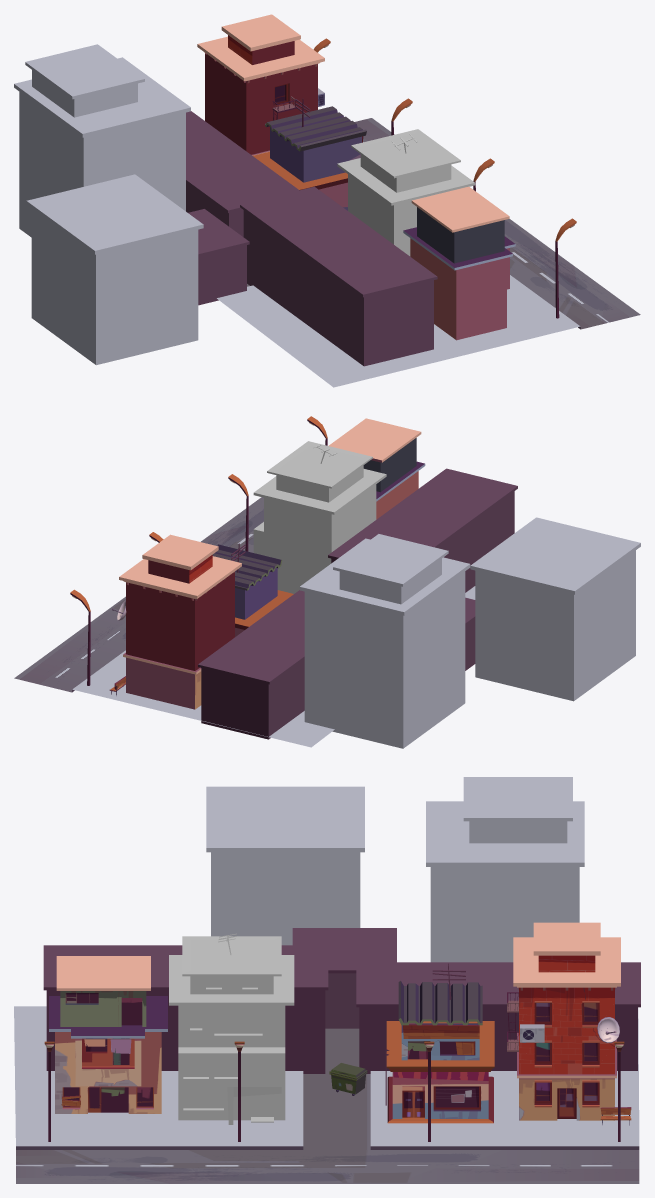
File: city.fbx
3 views of the same model, one above another, from view 1: azimuth 30°, elevation 25°; view 2: azimuth 150°, elevation 25°; view 3: azimuth 270°, elevation 25° (orthographic). The views are drawn at different scales.
Parts seen in each view (by area): view 1: Cube, Plane, 1.001, 4.001, 3.001, 2.001, Lights.001; view 2: Cube, 1.001, 3.001, Plane, 4.001, 2.001, Lights.001; view 3: Cube, Plane, 3.001, 1.001, 4.001, 2.001, Lights.001, Garbage.001.
Boxes of the visible parts, x1=… form: Cube: x1=14, y1=44, x2=437, y2=366; Plane: x1=217, y1=118, x2=640, y2=387; 1.001: x1=197, y1=14, x2=324, y2=155; 4.001: x1=403, y1=186, x2=515, y2=340; 3.001: x1=337, y1=129, x2=475, y2=256; 2.001: x1=253, y1=98, x2=366, y2=210; Lights.001: x1=313, y1=38, x2=576, y2=318; Cube: x1=198, y1=468, x2=640, y2=748; 1.001: x1=112, y1=534, x2=241, y2=709; 3.001: x1=253, y1=441, x2=386, y2=593; Plane: x1=14, y1=497, x2=475, y2=747; 4.001: x1=328, y1=418, x2=425, y2=519; 2.001: x1=212, y1=543, x2=293, y2=636; Lights.001: x1=70, y1=416, x2=327, y2=685; Cube: x1=43, y1=777, x2=640, y2=1073; Plane: x1=14, y1=1006, x2=639, y2=1183; 3.001: x1=169, y1=933, x2=294, y2=1124; 1.001: x1=507, y1=922, x2=620, y2=1120; 4.001: x1=49, y1=956, x2=167, y2=1113; 2.001: x1=385, y1=963, x2=494, y2=1123; Lights.001: x1=44, y1=1041, x2=624, y2=1141; Garbage.001: x1=329, y1=1063, x2=367, y2=1095.
Bounding box in the file's own units: 649 × 225 × 656.
